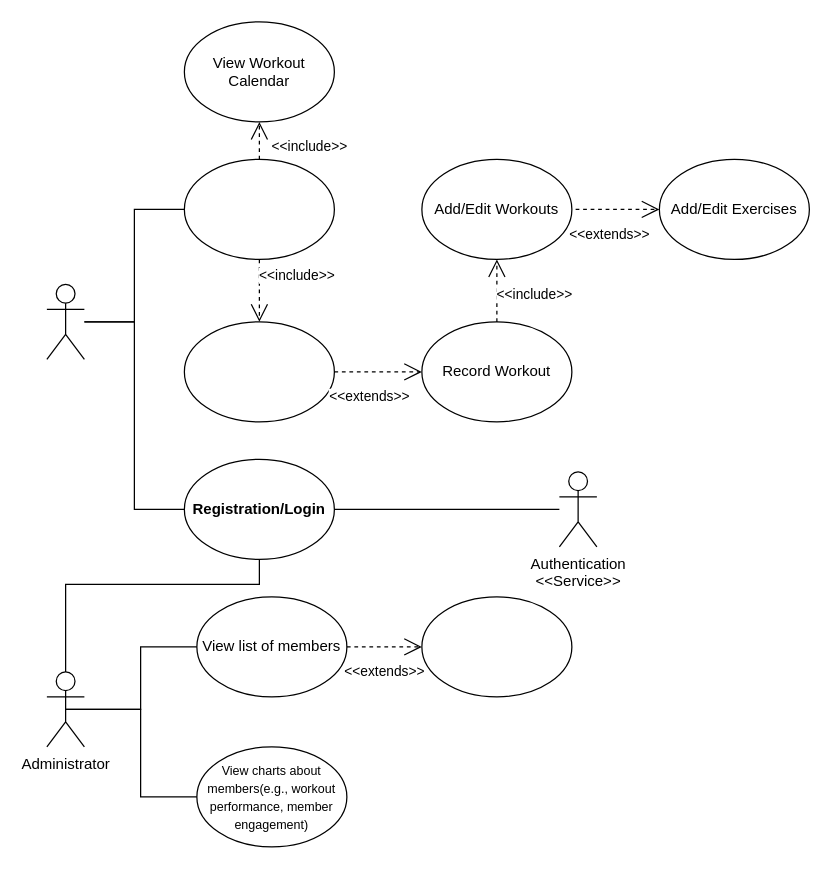
Some shapes in this 831 by 869 pixel diagram are drawn without their labels. The shapes that lost their labels are listed below. From the top down, each one's centre as x and y in pixels, then its label:
At point (258, 208): "View Profile".
At point (65, 321): "User".
At point (258, 371): "Track progress".
At point (496, 646): "Modify information of list members".
